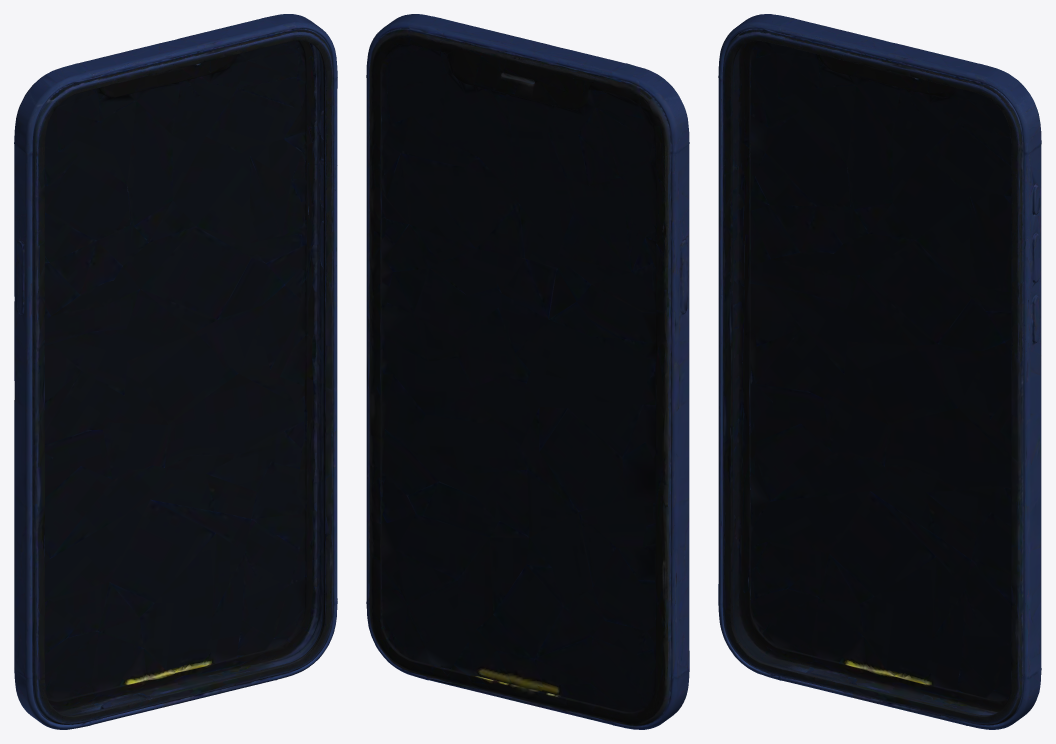
Rendered from tekkwork-smartphone.glb.
3 views of the same model, side by side, from view 1: azimuth 30°, elevation 25°; view 2: azimuth 150°, elevation 25°; view 3: azimuth 330°, elevation 25° (orthographic).
Bounding box in the file's own units: 0.9586 × 1.9 × 0.1015.
Materials: 1 (1 with a texture image).
